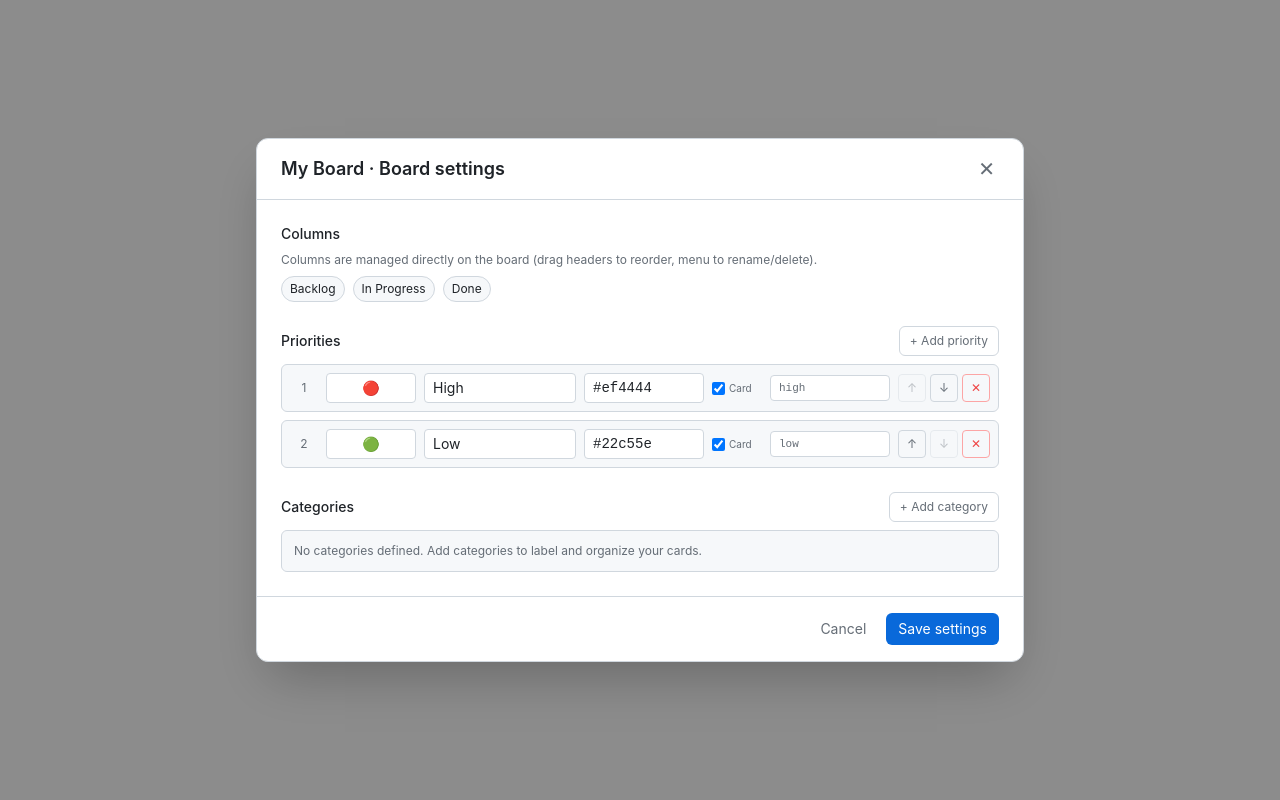
Scenario: delete priority › removing all shows empty state
Click the button titled "Delete priority" next to "high". click: click(976, 388)
box: x1=962 y1=374 x2=990 y2=402
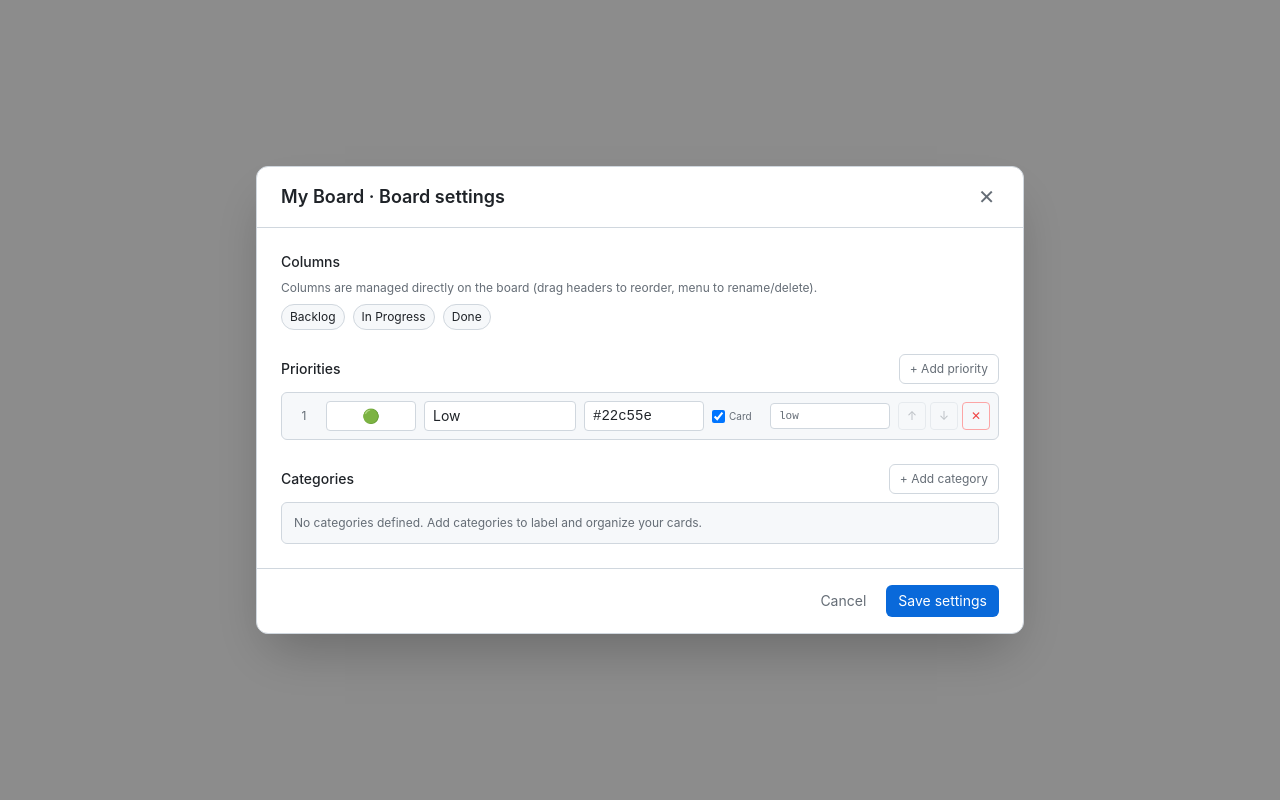
Click the button titled "Delete priority" in the row of "low". click: click(976, 416)
box: x1=962 y1=402 x2=990 y2=430
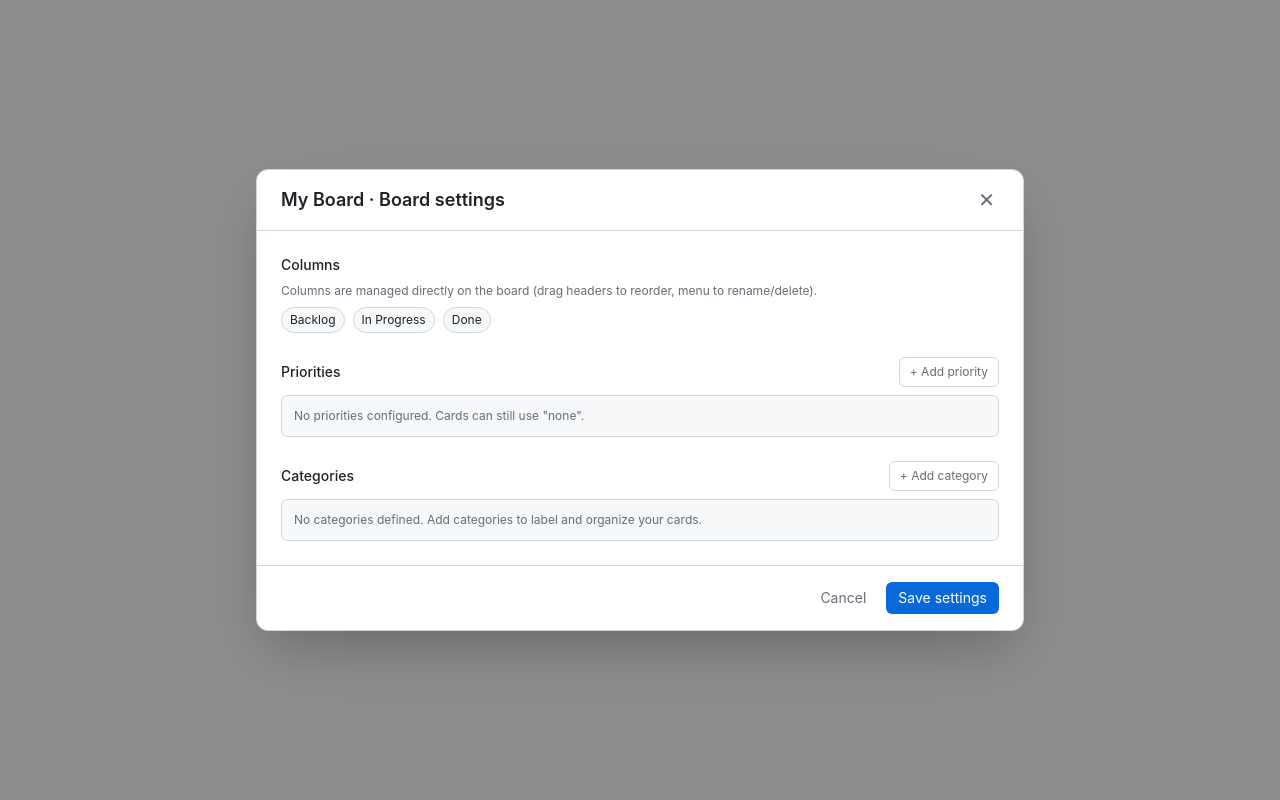
Check: the text "No priorities configured. Cards can still use \"none\"." is shown, box x1=281 y1=395 x2=999 y2=437
